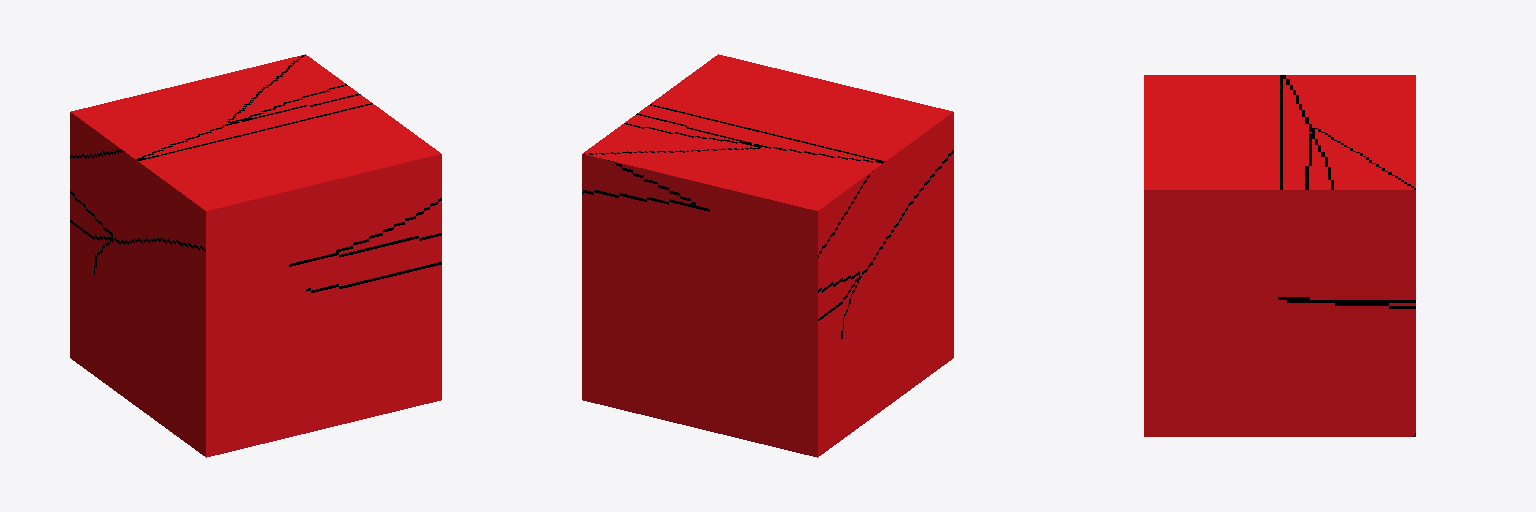
3 renders of one model, left to right at view 1: azimuth 30°, elevation 25°; view 2: azimuth 150°, elevation 25°; view 3: azimuth 270°, elevation 25°, orthographic.
Visible parts, largest first — view 1: Cube1; view 2: Cube1; view 3: Cube1.
Part boxes in pixels (left/top/right/bottom): Cube1: left=70, top=54, right=441, bottom=457; Cube1: left=582, top=54, right=953, bottom=457; Cube1: left=1144, top=75, right=1415, bottom=436.
Size of the model in its own units: 2 by 2 by 2.
Materials: 1 (1 with a texture image).